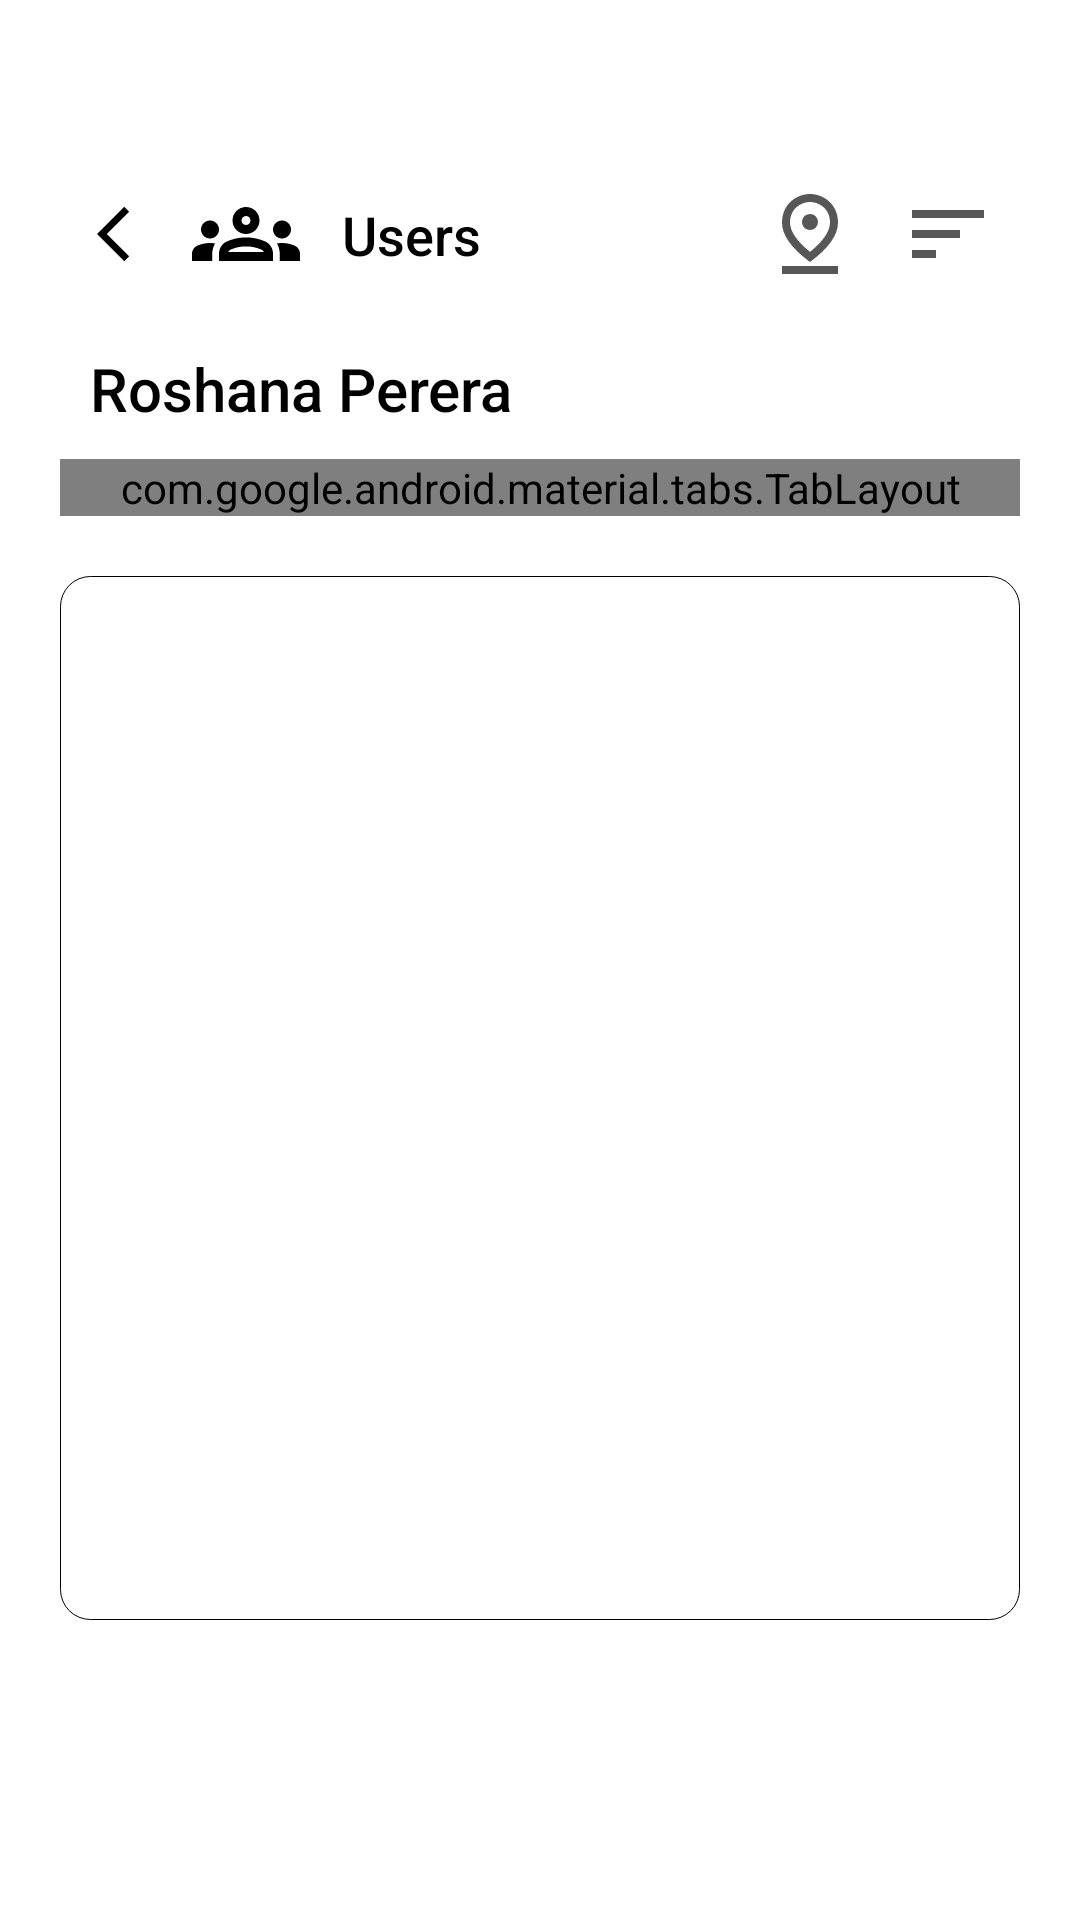

Icon click points for this 1080px×1920px phone screenshot, format (x,y):
arrow back: (113,234)
pin drop: (810,234)
sort: (948,234)
